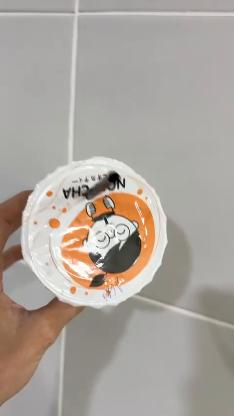Plastic Cup: (22, 156, 166, 304)
